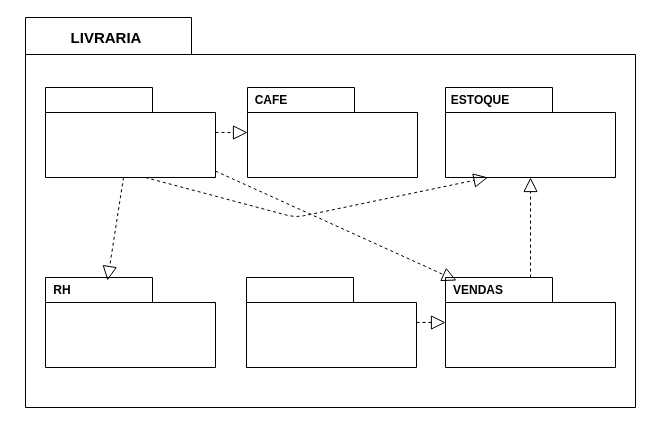
Image size: 653x425. Some labels were removed from this diagram. Each missing label, with the centre of its shape:
"FINANCEIRO" goes at point 130,132.
"MARKETING" goes at point 331,322.
